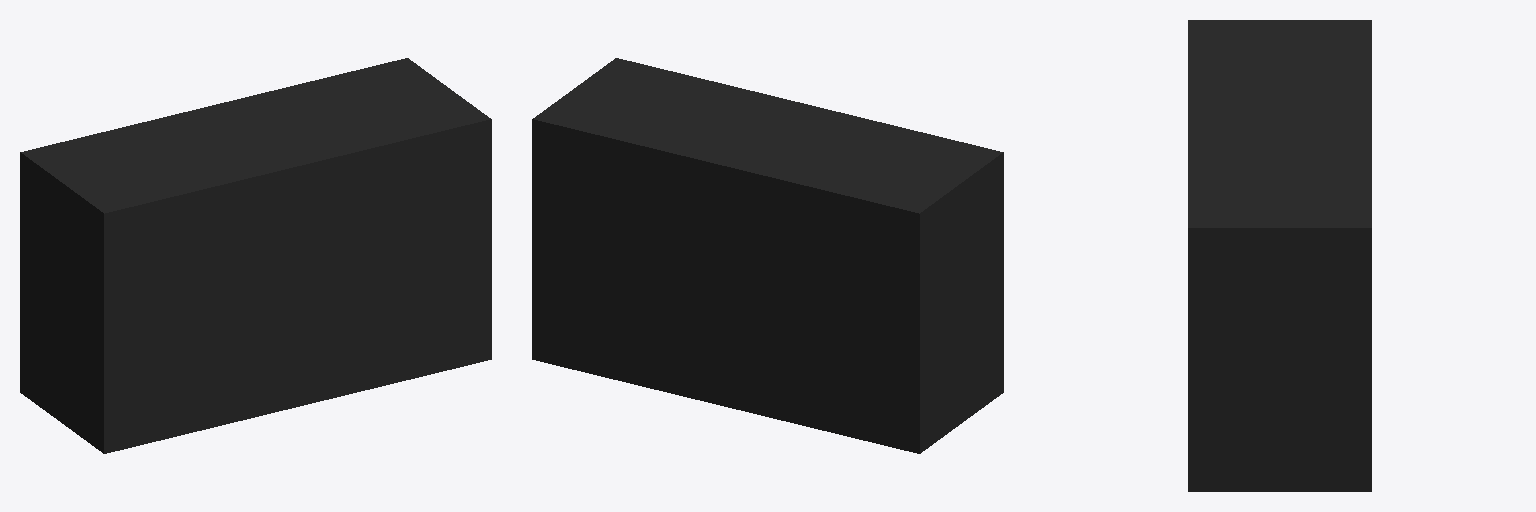
URDF robot description (box.urdf):
<?xml version="0.0" ?>
<robot name="box.urdf">
  <link name="baseLink">
    <contact>
      <lateral_friction value="0.5"/>
      <rolling_friction value="0.0"/>
      <contact_cfm value="0.0"/>
      <contact_erp value="1.0"/>
    </contact>
    <inertial>
      <origin rpy="0 0 0" xyz="0 0 0"/>
       <mass value=".01"/>
       <inertia ixx="1" ixy="0" ixz="0" iyy="1" iyz="0" izz="1"/>
    </inertial>
    <visual>
      <origin rpy="0 0 0" xyz="0 0 0"/>
      <geometry>
				<mesh filename="box.obj" scale="0.16 0.06 0.095"/>
      </geometry>
       <material name="white">
        <color rgba="0.2 0.2 0.2 1"/>
      </material>
    </visual>
    <collision>
      <origin rpy="0 0 0" xyz="0 0 0"/>
      <geometry>
	 	<box size="0.16 0.06 0.095"/>
      </geometry>
    </collision>
  </link>
</robot>

--- Facts derived from the render (not from the file) ---
3 views of the same robot in one strip: view 1: azimuth 30°, elevation 25°; view 2: azimuth 150°, elevation 25°; view 3: azimuth 270°, elevation 25° (orthographic).
Model box.urdf with 1 links and 0 joints (none), rooted at baseLink, posed all joints at 0.
Visible links, largest first — view 1: baseLink; view 2: baseLink; view 3: baseLink.
Link boxes in pixels (<box>): baseLink: <box>20,58,491,453</box>; baseLink: <box>532,58,1003,453</box>; baseLink: <box>1188,20,1371,491</box>.
Bounding box of the posed robot: 0.16 × 0.06 × 0.095 m (x, y, z).
1 mesh visuals loaded from 1 distinct referenced files (1 OBJ).